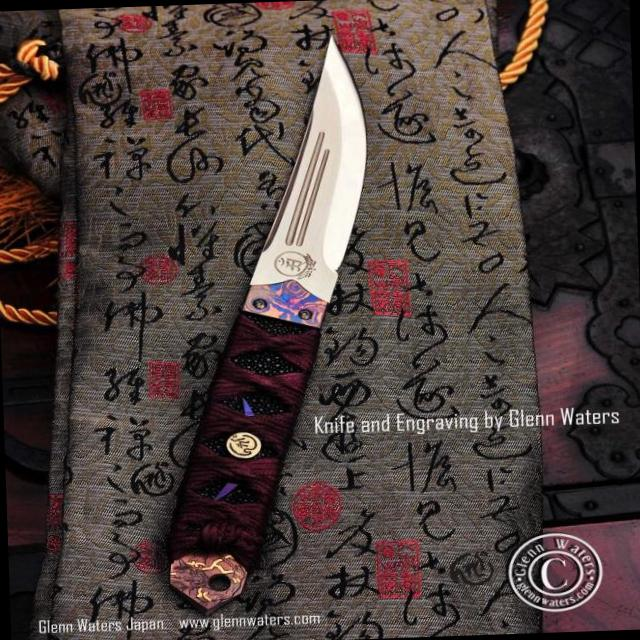Knife: (168, 36, 367, 612)
